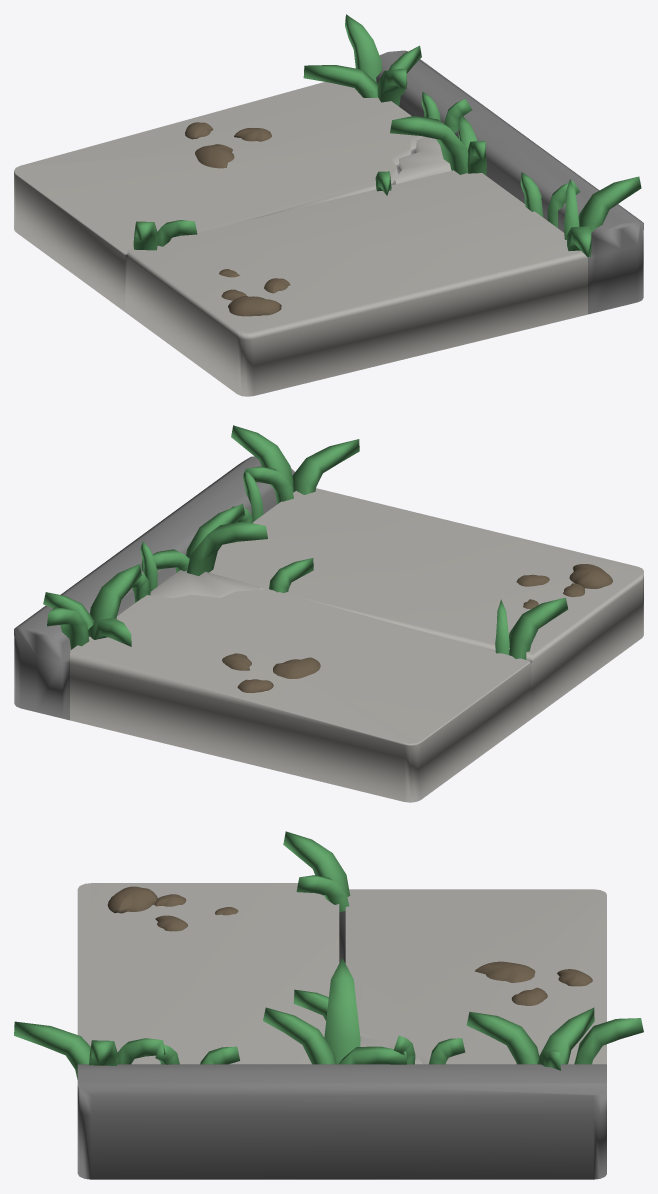
File: SideWalk.fbx
3 renders of one model, top to bottom at view 1: azimuth 30°, elevation 25°; view 2: azimuth 150°, elevation 25°; view 3: azimuth 270°, elevation 25°, orthographic. The views are drawn at different scales.
Parts seen in each view (by area): view 1: sidewalktile.001, Plane.022, Plane.034, Plane.030, Sphere.007, Sphere.011, Plane.024, Plane.025, Plane.028, Plane.027; view 2: sidewalktile.001, Plane.022, Plane.030, Plane.034, Plane.024, Sphere.007, Sphere.011, Plane.025, Plane.032, Plane.027; view 3: sidewalktile.001, Plane.034, Plane.022, Plane.030, Plane.024, Sphere.011, Sphere.007, Plane.025, Plane.032, Plane.028.
Part boxes in pixels (x1,y1,x2,y2): sidewalktile.001: [14, 50, 643, 396]; Plane.022: [303, 14, 421, 106]; Plane.034: [390, 116, 486, 175]; Plane.030: [564, 176, 641, 257]; Sphere.007: [185, 122, 271, 168]; Sphere.011: [219, 269, 290, 316]; Plane.024: [133, 220, 197, 250]; Plane.025: [421, 92, 472, 132]; Plane.028: [520, 172, 543, 217]; Plane.027: [547, 181, 580, 227]; sidewalktile.001: [14, 456, 643, 802]; Plane.022: [43, 564, 141, 649]; Plane.030: [231, 425, 359, 503]; Plane.034: [141, 504, 267, 575]; Plane.024: [495, 597, 568, 659]; Sphere.007: [222, 653, 320, 692]; Sphere.011: [516, 564, 612, 608]; Plane.025: [132, 541, 157, 602]; Plane.032: [269, 558, 313, 593]; Plane.027: [243, 469, 263, 521]; sidewalktile.001: [77, 883, 606, 1179]; Plane.034: [263, 958, 406, 1064]; Plane.022: [466, 1007, 643, 1070]; Plane.030: [14, 1021, 165, 1079]; Plane.024: [283, 831, 350, 912]; Sphere.011: [107, 886, 238, 931]; Sphere.007: [475, 961, 592, 1005]; Plane.025: [393, 1035, 465, 1064]; Plane.032: [293, 989, 328, 1020]; Plane.028: [200, 1046, 239, 1064].
Bounding box in the file's own units: 1.03 × 0.3025 × 1.19.
